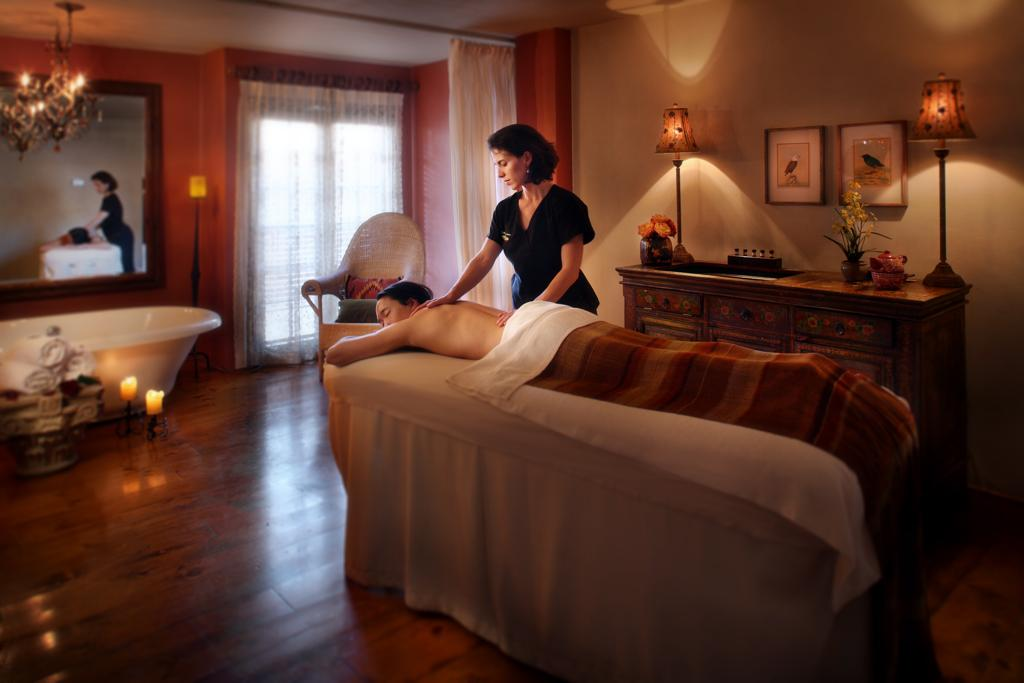face: (489, 148, 522, 189), (375, 296, 408, 333), (92, 179, 105, 193)
